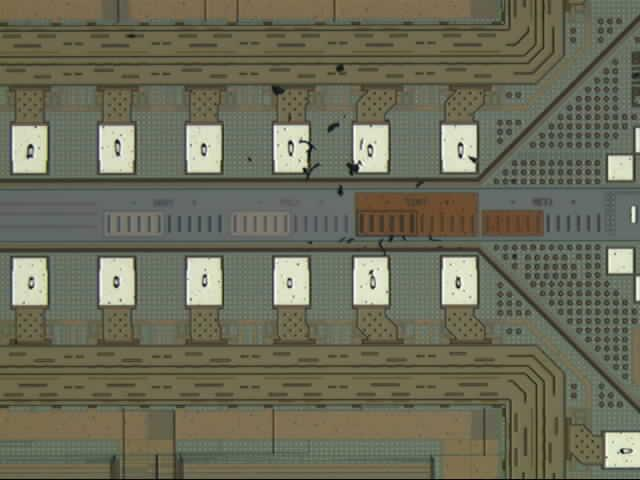PO CONTAMINATION: (245, 60, 484, 261)
